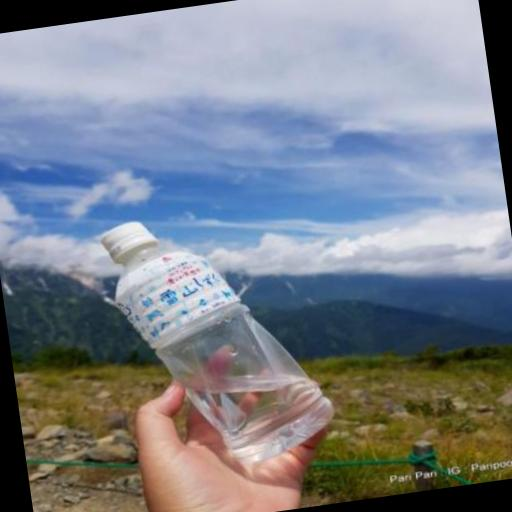Coca: (86, 188, 354, 493)
